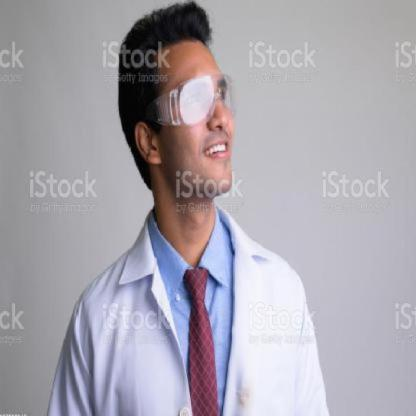oculos: (128, 60, 250, 136)
